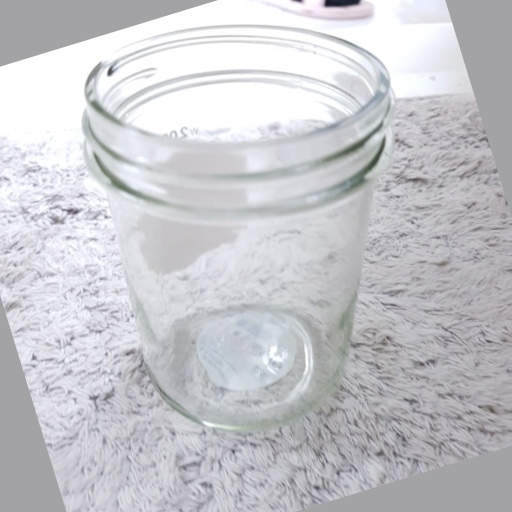Glass_5: (81, 26, 393, 427)
